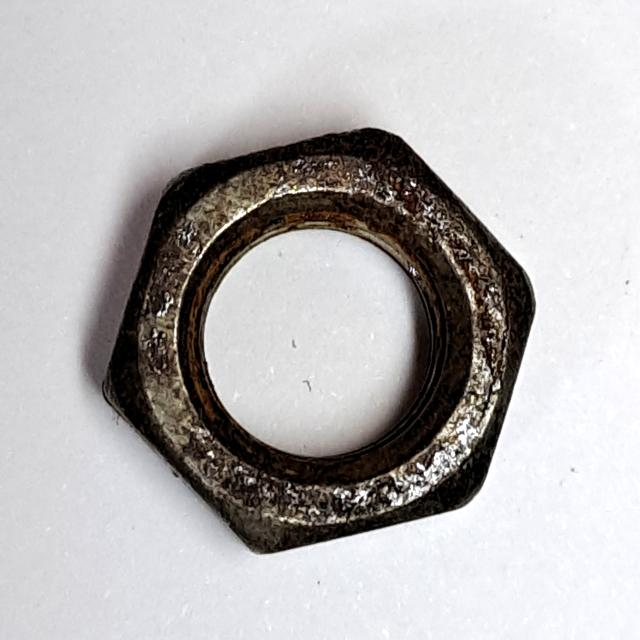Rust: (90, 115, 560, 571)
